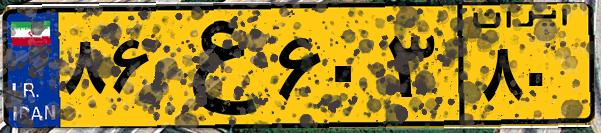0: (330, 28, 385, 110), (525, 38, 570, 115)
3: (385, 28, 445, 110)
6: (270, 28, 330, 110), (110, 28, 158, 98)
8: (57, 26, 110, 100), (475, 38, 525, 113)
ع: (158, 12, 270, 120)
